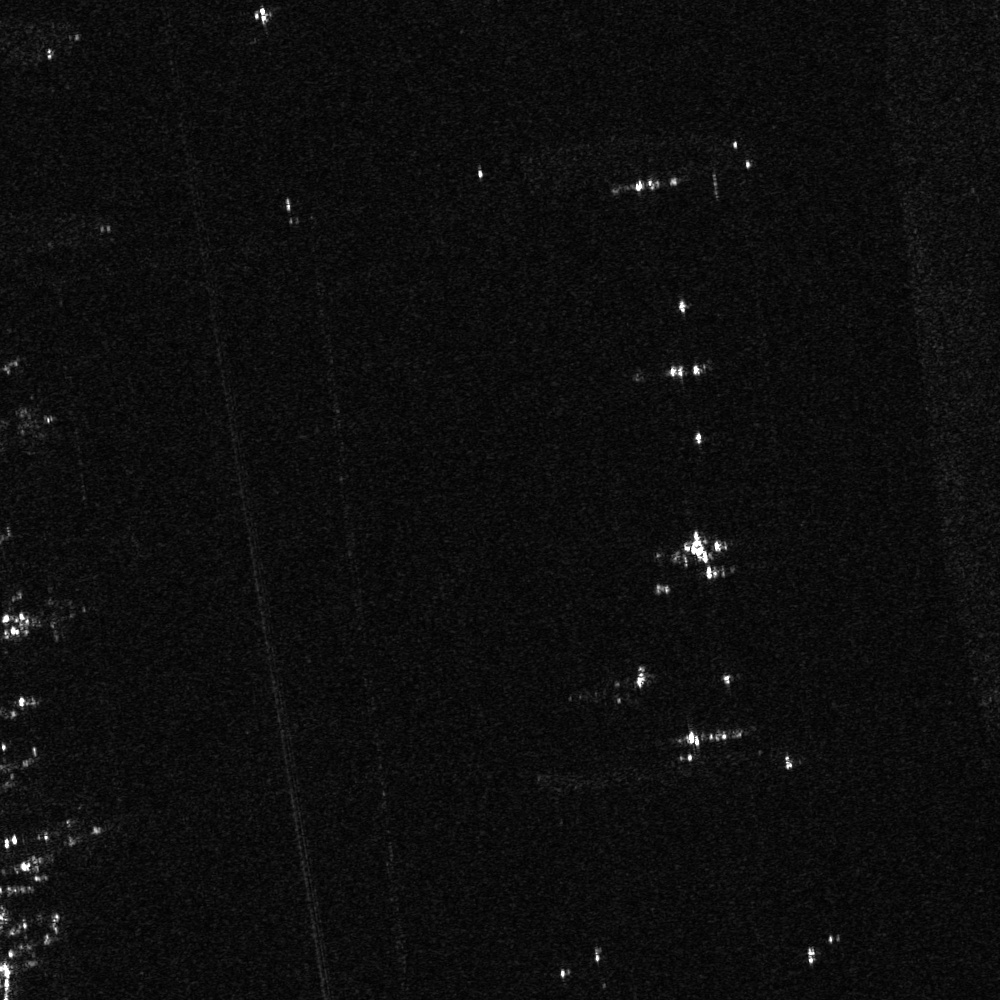A220: (671, 523, 733, 582)
